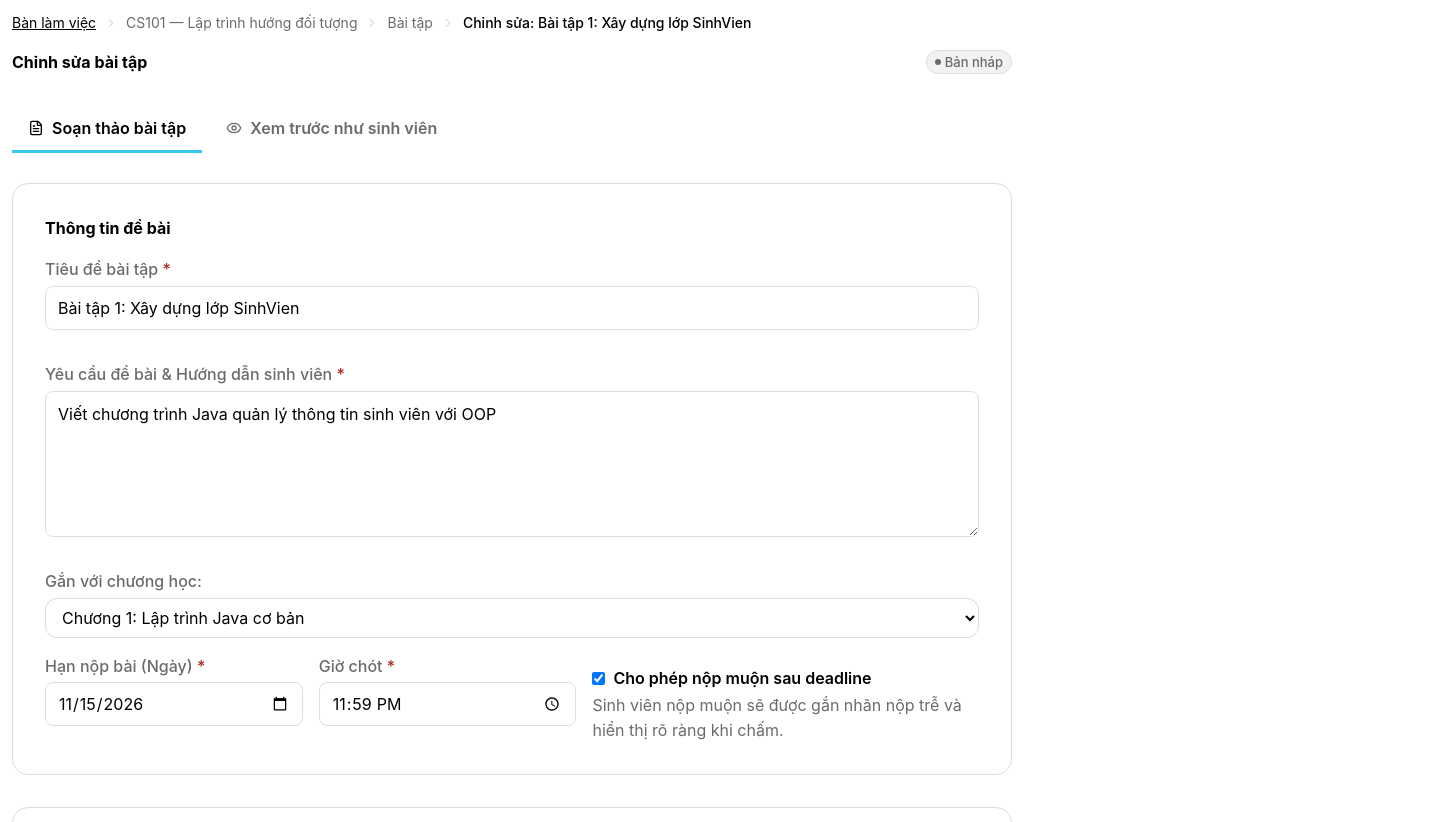
Test: B10-05: Teacher Assignments Flow UI › TeacherAssignmentEditPage › 13. Renders preview tab correctly under student perspective
Check: the text "Xem trước như sinh viên" is shown, box [250,118,437,138]
Note: Switch to preview tab
Click the tab "Xem trước như sinh viên".
click(332, 130)  # box [210,106,453,154]
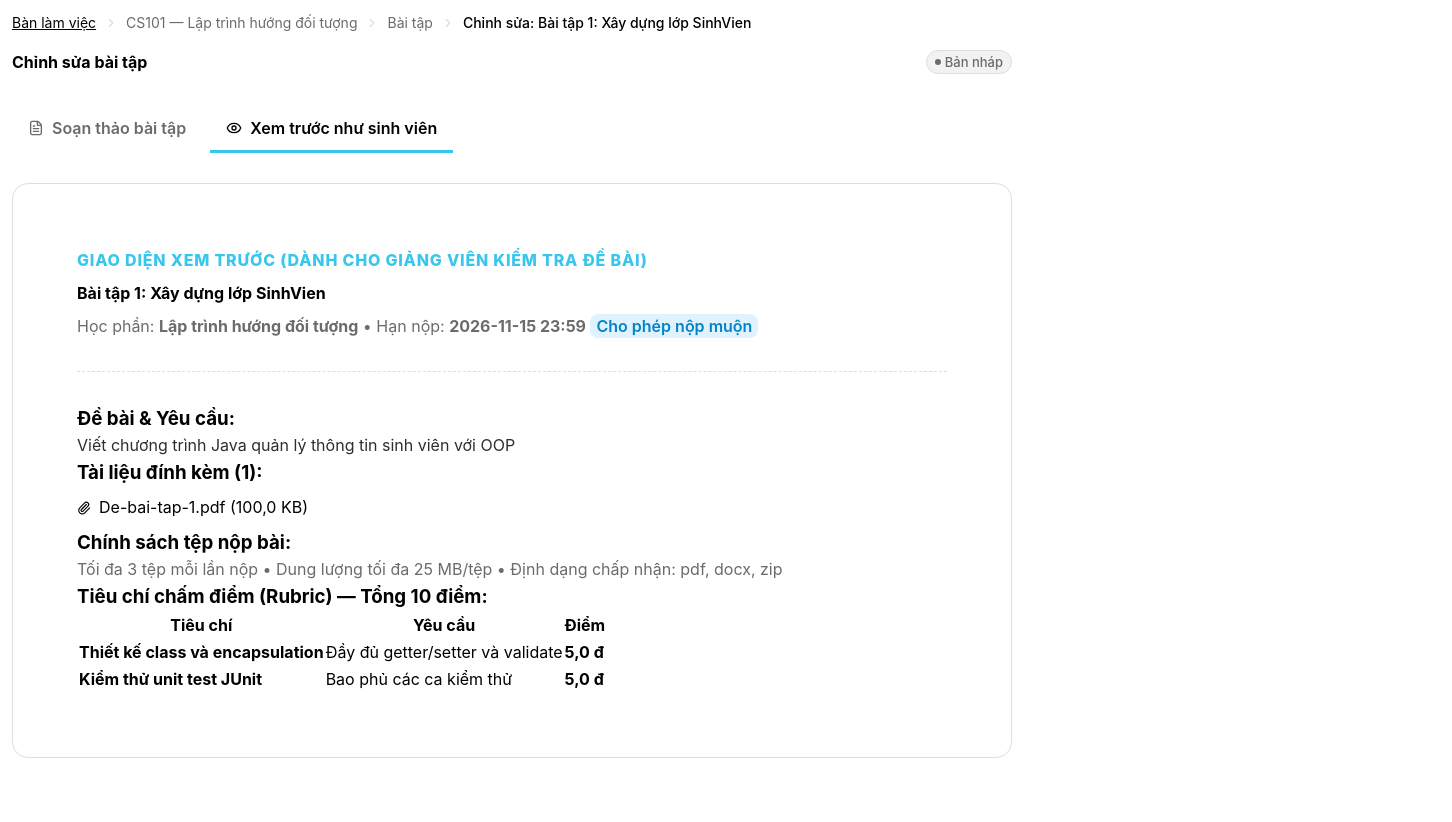
Check: the text "GIAO DIỆN XEM TRƯỚC (DÀNH CHO GIẢNG VIÊN KIỂM TRA ĐỀ BÀI)" is shown, box [77,248,648,273]
Check: the text "Viết chương trình Java quản lý thông tin sinh viên với OOP" is shown, box [77,435,515,455]
